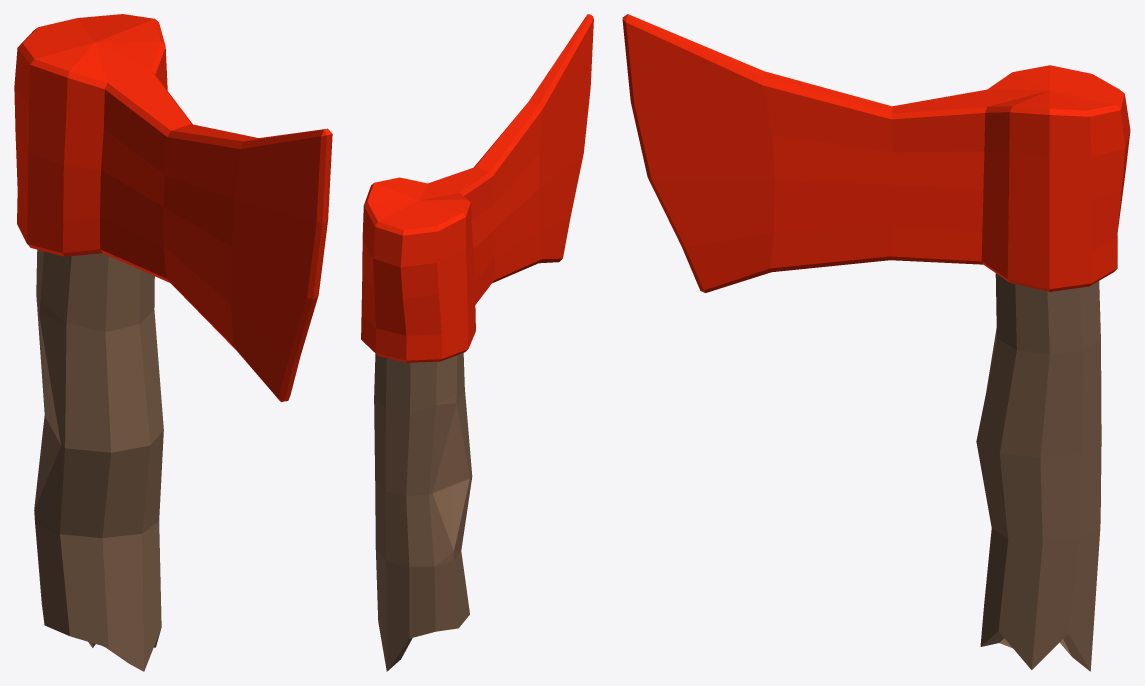
File: Axe_01_Destroyed_Red.fbx
The picture shows the model from 3 angles, left to right: view 1: azimuth 30°, elevation 25°; view 2: azimuth 150°, elevation 25°; view 3: azimuth 270°, elevation 25°; orthographic projection. The views are drawn at different scales.
Visible parts, largest first — view 1: Axe_01_Destroyed_Red; view 2: Axe_01_Destroyed_Red; view 3: Axe_01_Destroyed_Red.
Boxes of the visible parts, <box> form: Axe_01_Destroyed_Red: <box>14,14,332,671</box>; Axe_01_Destroyed_Red: <box>361,14,593,671</box>; Axe_01_Destroyed_Red: <box>622,14,1130,671</box>.
Size of the model in its own units: 13.94 by 69.73 by 49.54.
